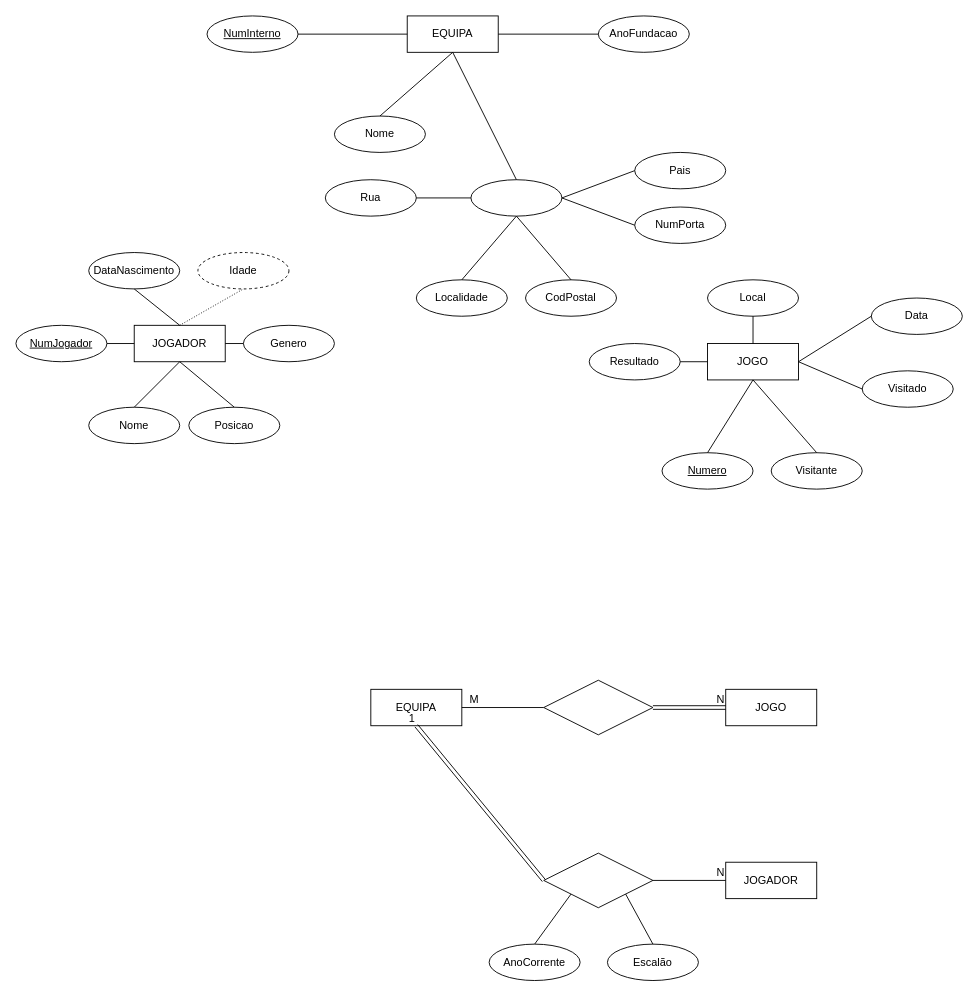
Image size: 978x996. Some labels were removed from this diagram. The shapes that lost their labels are listed below. From the top down, each one's centre as x and y in pixels, then its label:
(516,197): Morada
(598,707): JOGOU
(598,880): FILIADO_A
